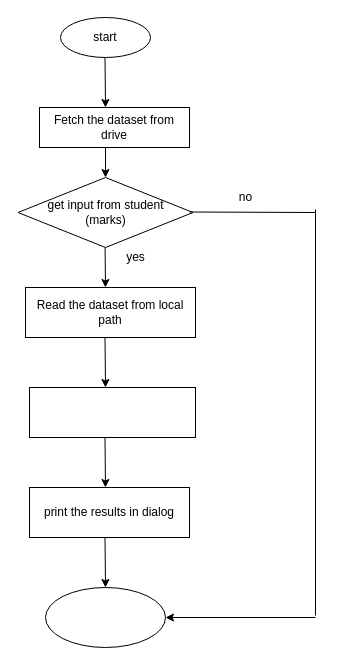
The diagram is 341 pixels wide and 665 high, and some of its shapes have lost their labels. Here are the shapes that lost their labels. From the top down, the centre of each, then its label:
At pixel 112 412: "predict college names from SVM".
At pixel 105 617: "End".
